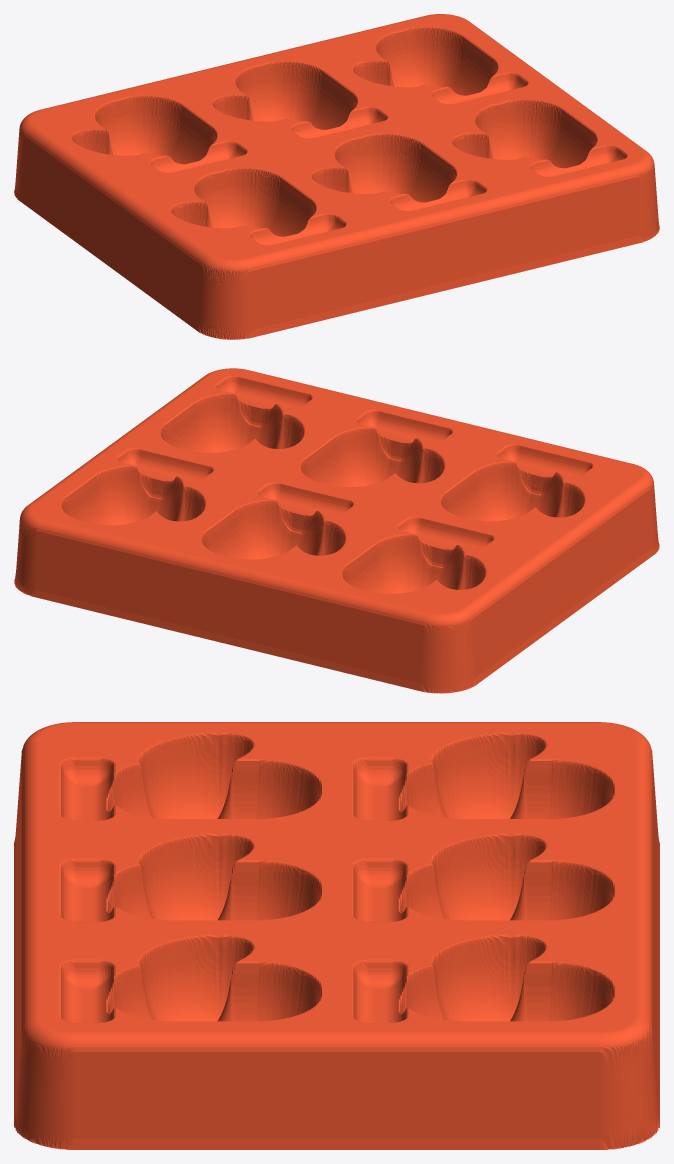
The model's file is mold.glb.
3 renders of one model, top to bottom at view 1: azimuth 30°, elevation 25°; view 2: azimuth 150°, elevation 25°; view 3: azimuth 270°, elevation 25°, orthographic. The views are drawn at different scales.
Parts seen in each view (by area): view 1: geometry_0; view 2: geometry_0; view 3: geometry_0.
Boxes of the visible parts, x1=… form: geometry_0: x1=14, y1=14, x2=659, y2=339; geometry_0: x1=14, y1=368, x2=659, y2=693; geometry_0: x1=14, y1=722, x2=659, y2=1149.
Bounding box in the file's own units: 0.1151 × 0.0175 × 0.0955.
